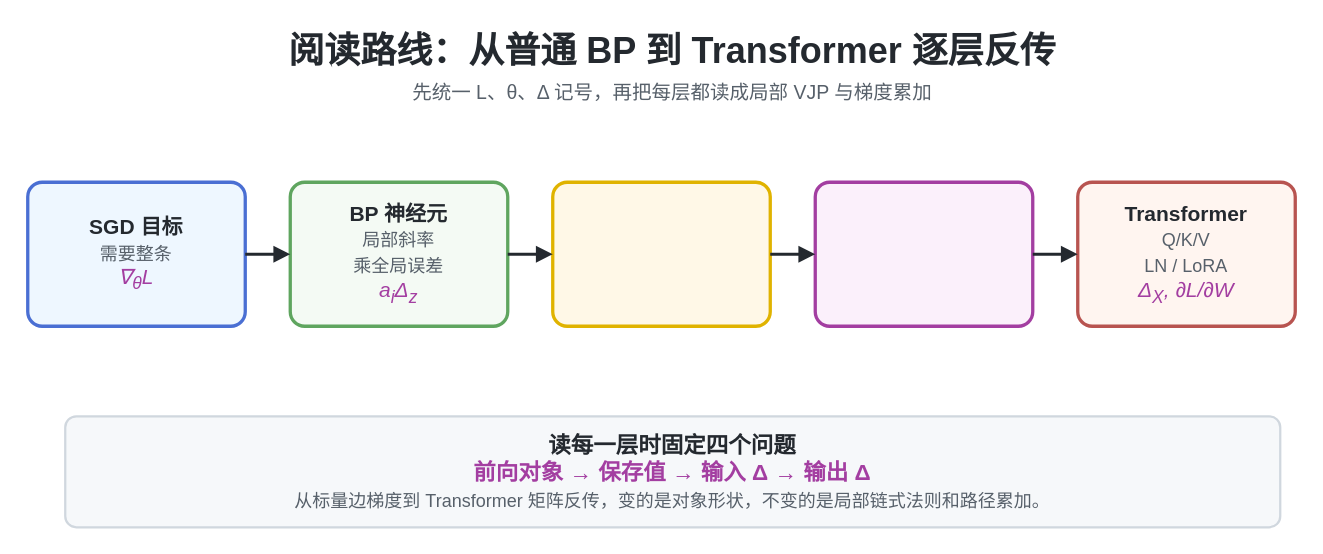
The diagram is 1323 pixels wide and 554 high, and some of its shapes have lost their labels. The shapes that lost their labels are listed below. From the top down, each one's box as (x1, y1, x2, y2) in pixels, then its label:
(550, 180, 771, 327): 计算图 分支回流 Σ paths Δ·∂
(813, 180, 1034, 327): 微分模板 整理微分 Δ A : dA
